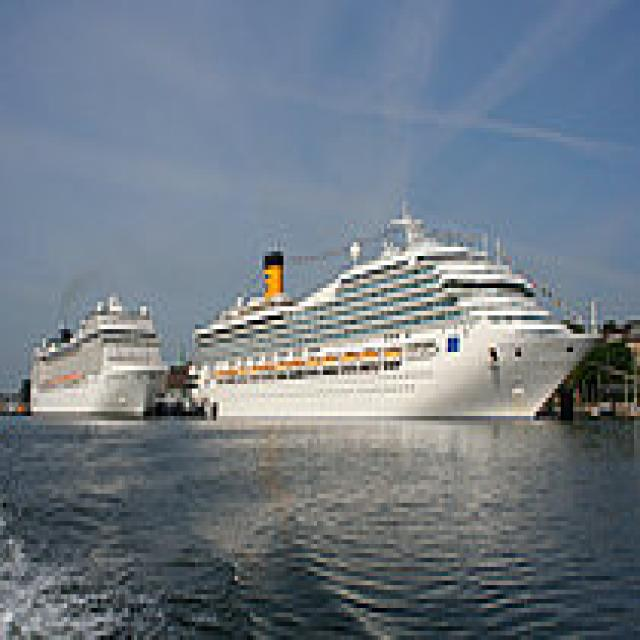Cruise: (186, 197, 606, 416), (24, 284, 168, 421)
